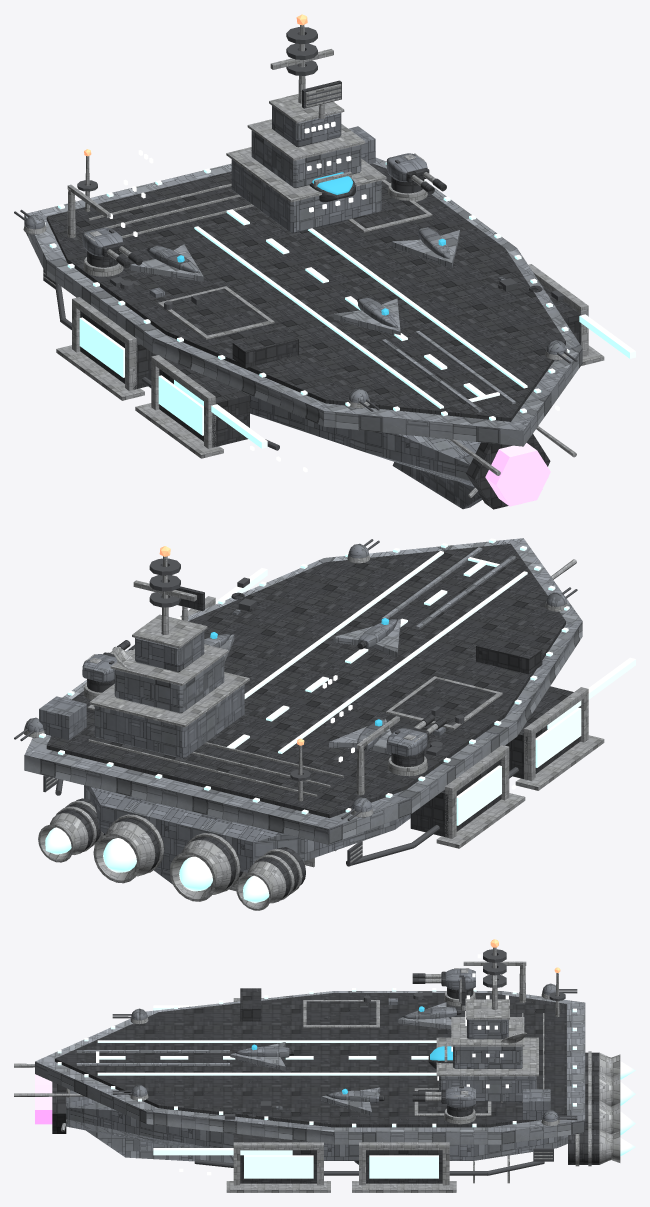
Rendered from titan_carrier.glb.
3 renders of one model, top to bottom at view 1: azimuth 30°, elevation 25°; view 2: azimuth 150°, elevation 25°; view 3: azimuth 270°, elevation 25°, orthographic. The views are drawn at different scales.
Visible parts, largest first — view 1: titan_carrier; view 2: titan_carrier; view 3: titan_carrier.
Part boxes in pixels (x1,y1,x2,y2): titan_carrier: [14, 14, 635, 509]; titan_carrier: [14, 538, 635, 910]; titan_carrier: [14, 939, 635, 1192].
Bounding box in the file's own units: 5.3 × 4 × 8.93.
10 materials, 4 textured.
